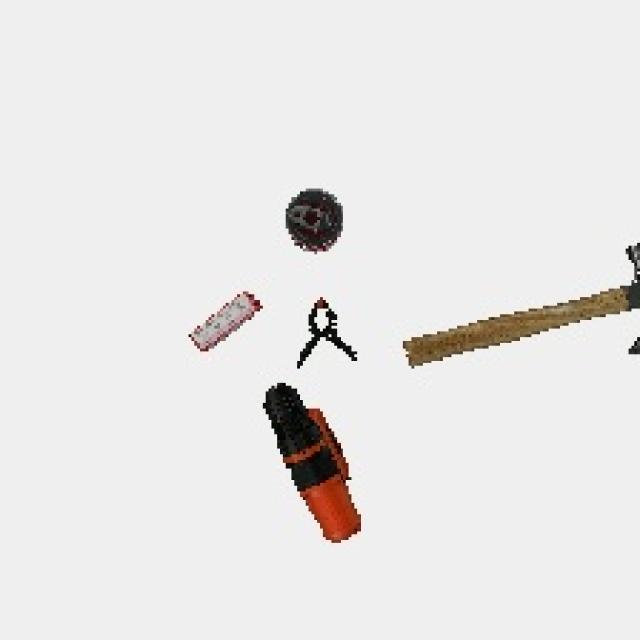GelatinBox: (182, 288, 271, 360)
Hammer: (398, 241, 640, 374)
MediumClamp: (292, 296, 362, 376)
PowerDrill: (256, 381, 362, 551)
TomatoSoupCan: (277, 181, 360, 264)
